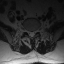CCS_normal: (30, 28, 33, 39)
LFS_normal: (35, 27, 37, 34)
LLS_normal: (33, 28, 35, 38)
RFS_normal: (25, 26, 27, 34)
RLS_normal: (28, 28, 30, 38)
